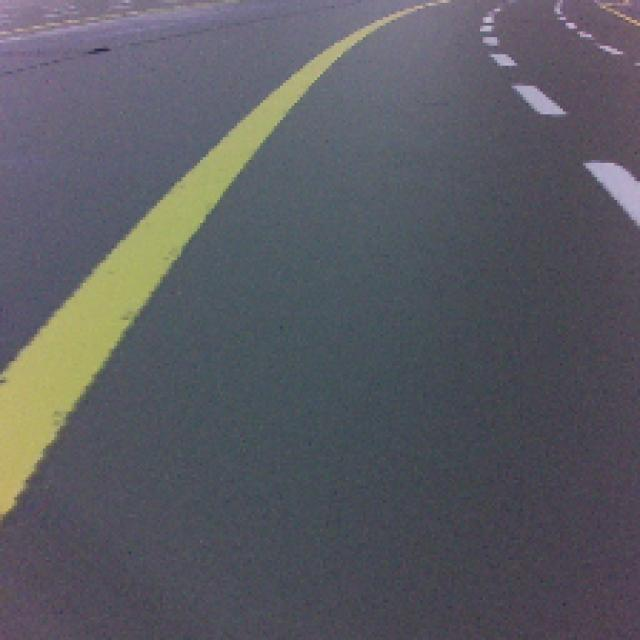Road: (0, 241, 640, 640)
